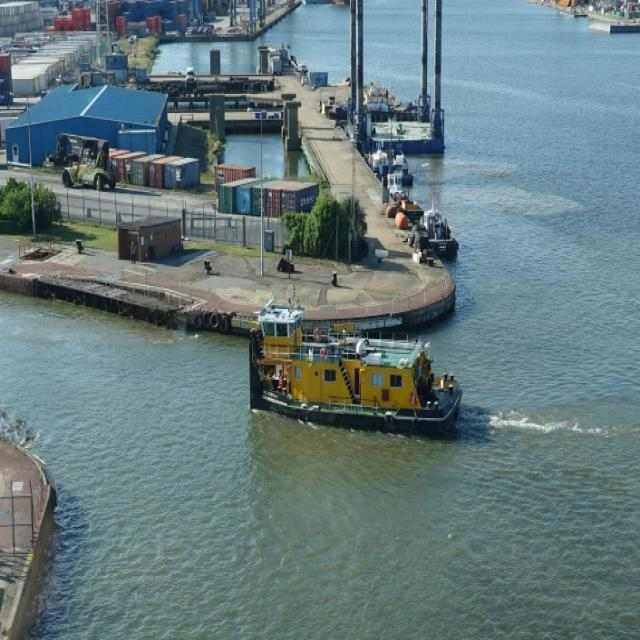tugboat: (247, 284, 467, 452)
